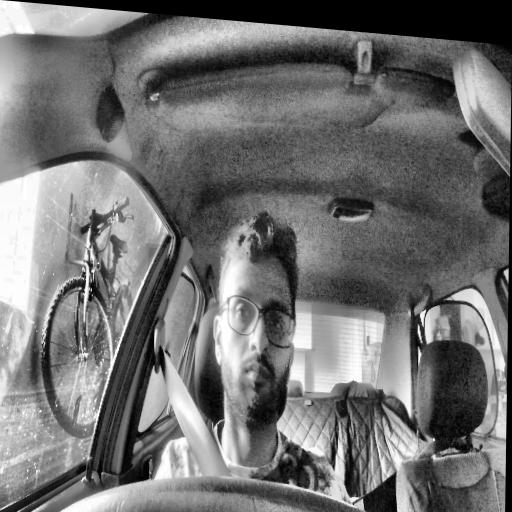awake: (211, 209, 300, 437)
